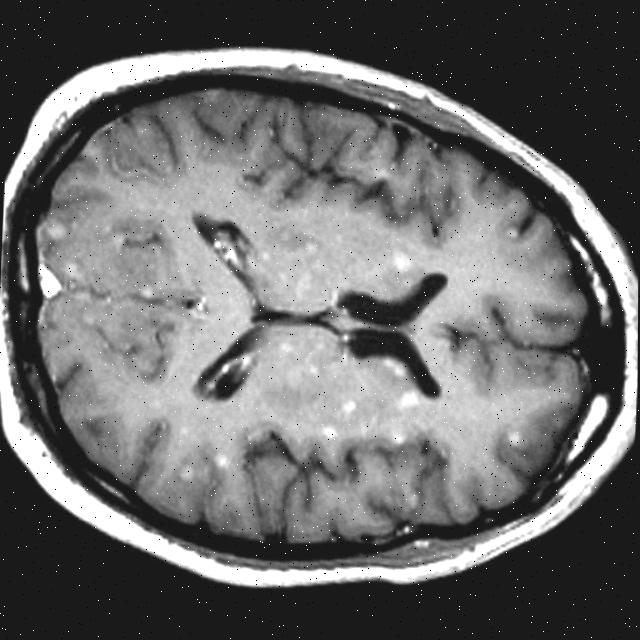NoTumor: (0, 18, 640, 627)
